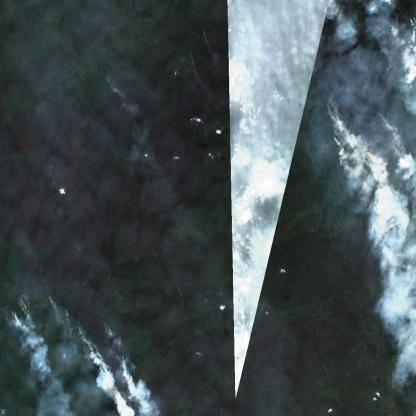fire: (325, 95, 395, 174), (79, 323, 142, 406), (0, 287, 56, 343), (129, 109, 145, 156), (101, 68, 122, 95), (197, 21, 208, 44), (186, 46, 193, 67)
